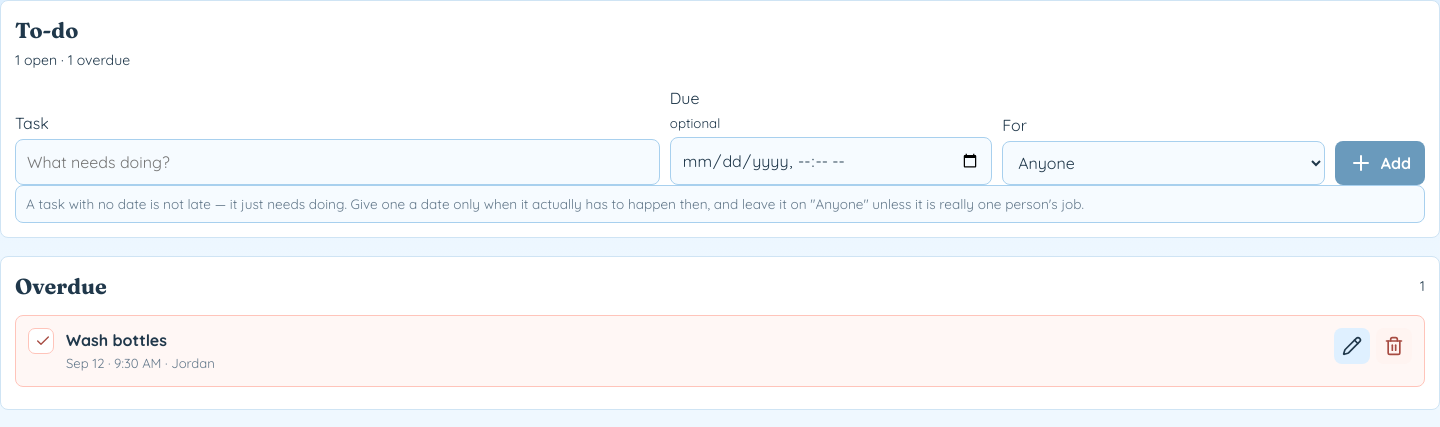
Test: household list pages › edits an existing task in the same form
Step 1. Click the button named "Edit Wash bottles" → (1352, 346), box [1334,328,1370,364]
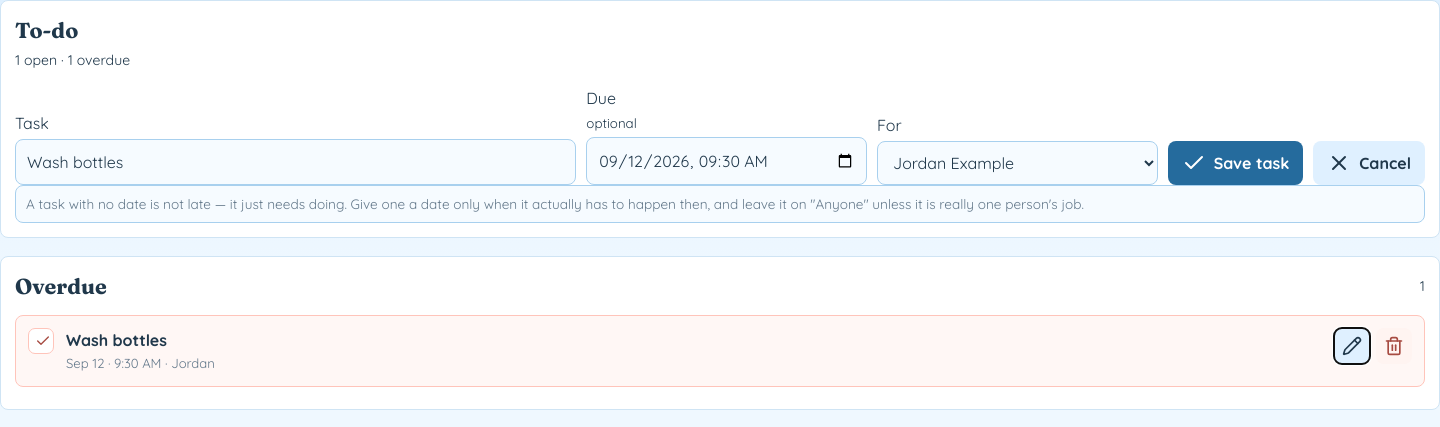
Step 2. Replace the text in the field showing "Wash bottles" with "Wash bottles and pump parts" → (296, 162), box [15,140,576,186]
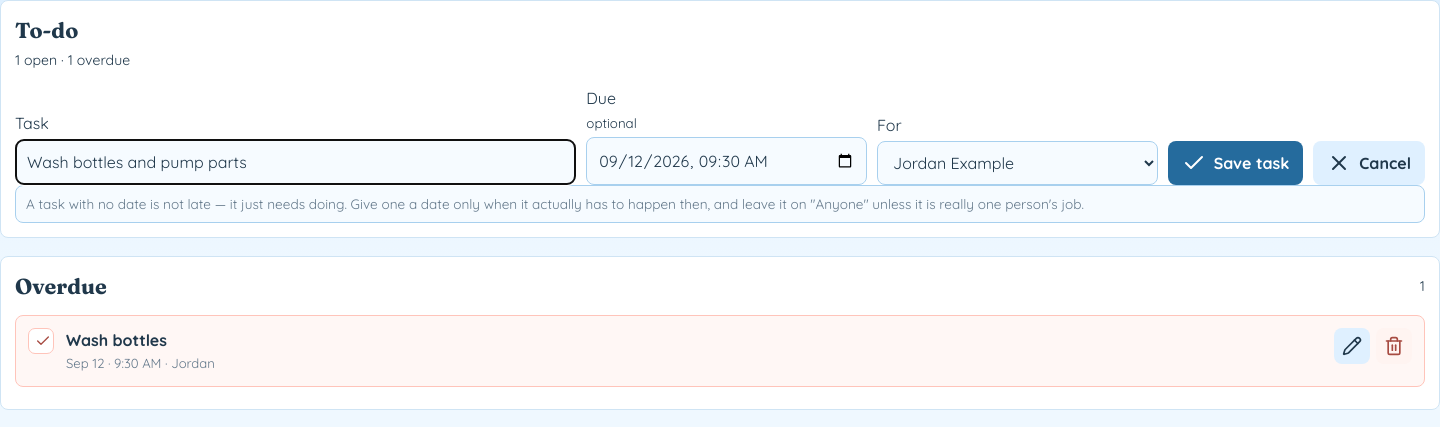
Step 3. Clear the field labelled "Due optional" → (727, 162), box [586,138,867,186]
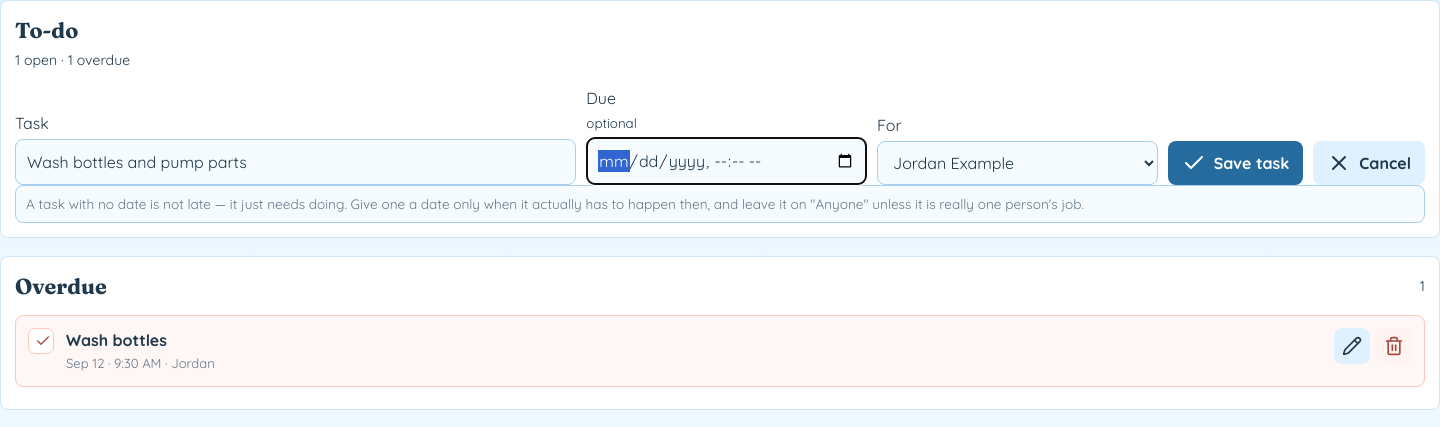
Step 4. Click the button "Save task" → (1235, 164), box [1168,142,1303,186]
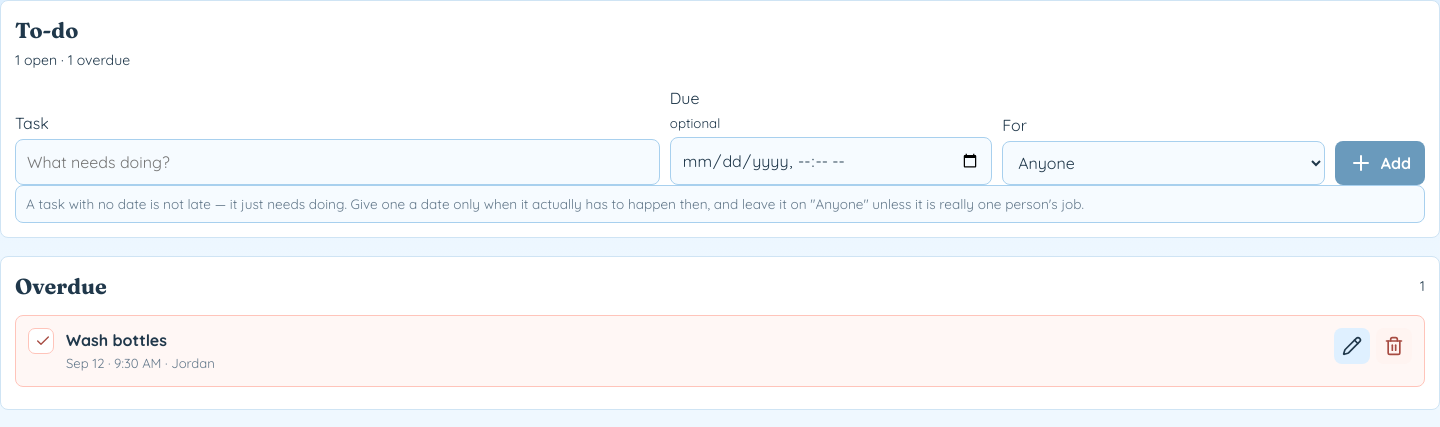
Expected: the button "Add" is shown, [1335,142,1425,186]
